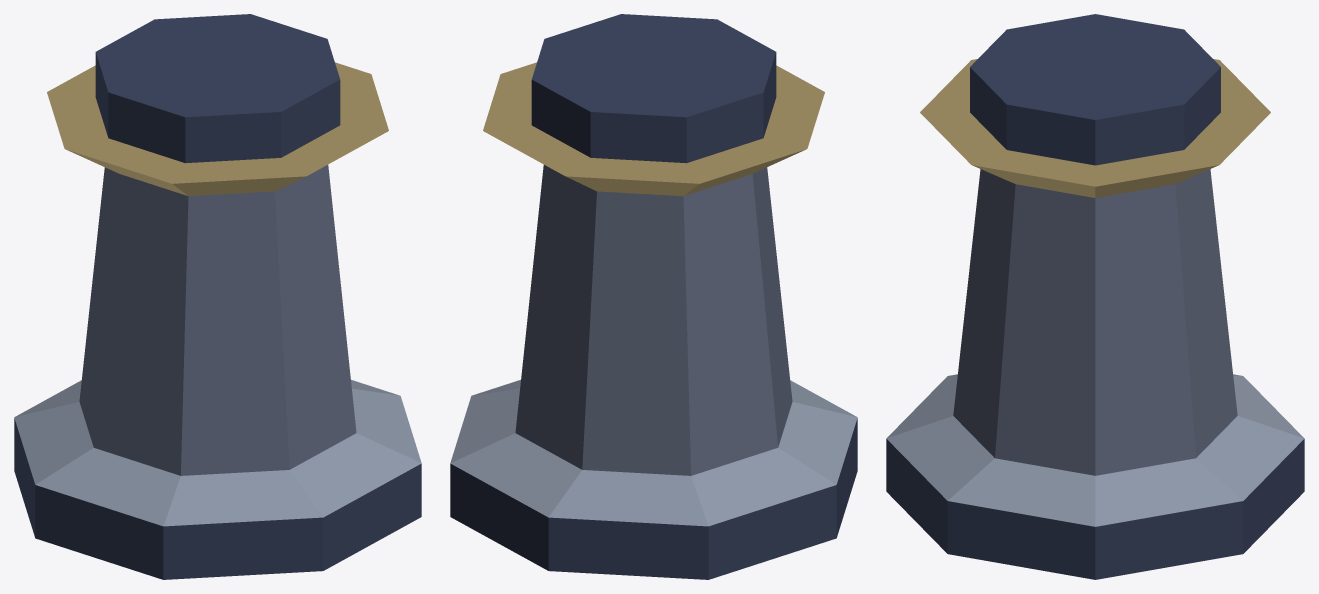
File: beacon-idle.glb
The picture shows the model from 3 angles, left to right: view 1: azimuth 30°, elevation 25°; view 2: azimuth 150°, elevation 25°; view 3: azimuth 270°, elevation 25°; orthographic projection.
Visible parts, largest first — view 1: beacon-idle__body; view 2: beacon-idle__body; view 3: beacon-idle__body.
Part boxes in pixels (box(x1,y1,x2,y2)): beacon-idle__body: box(14, 14, 421, 579); beacon-idle__body: box(450, 14, 857, 579); beacon-idle__body: box(886, 14, 1304, 579).
Bounding box in the file's own units: 1 × 1.12 × 1.
